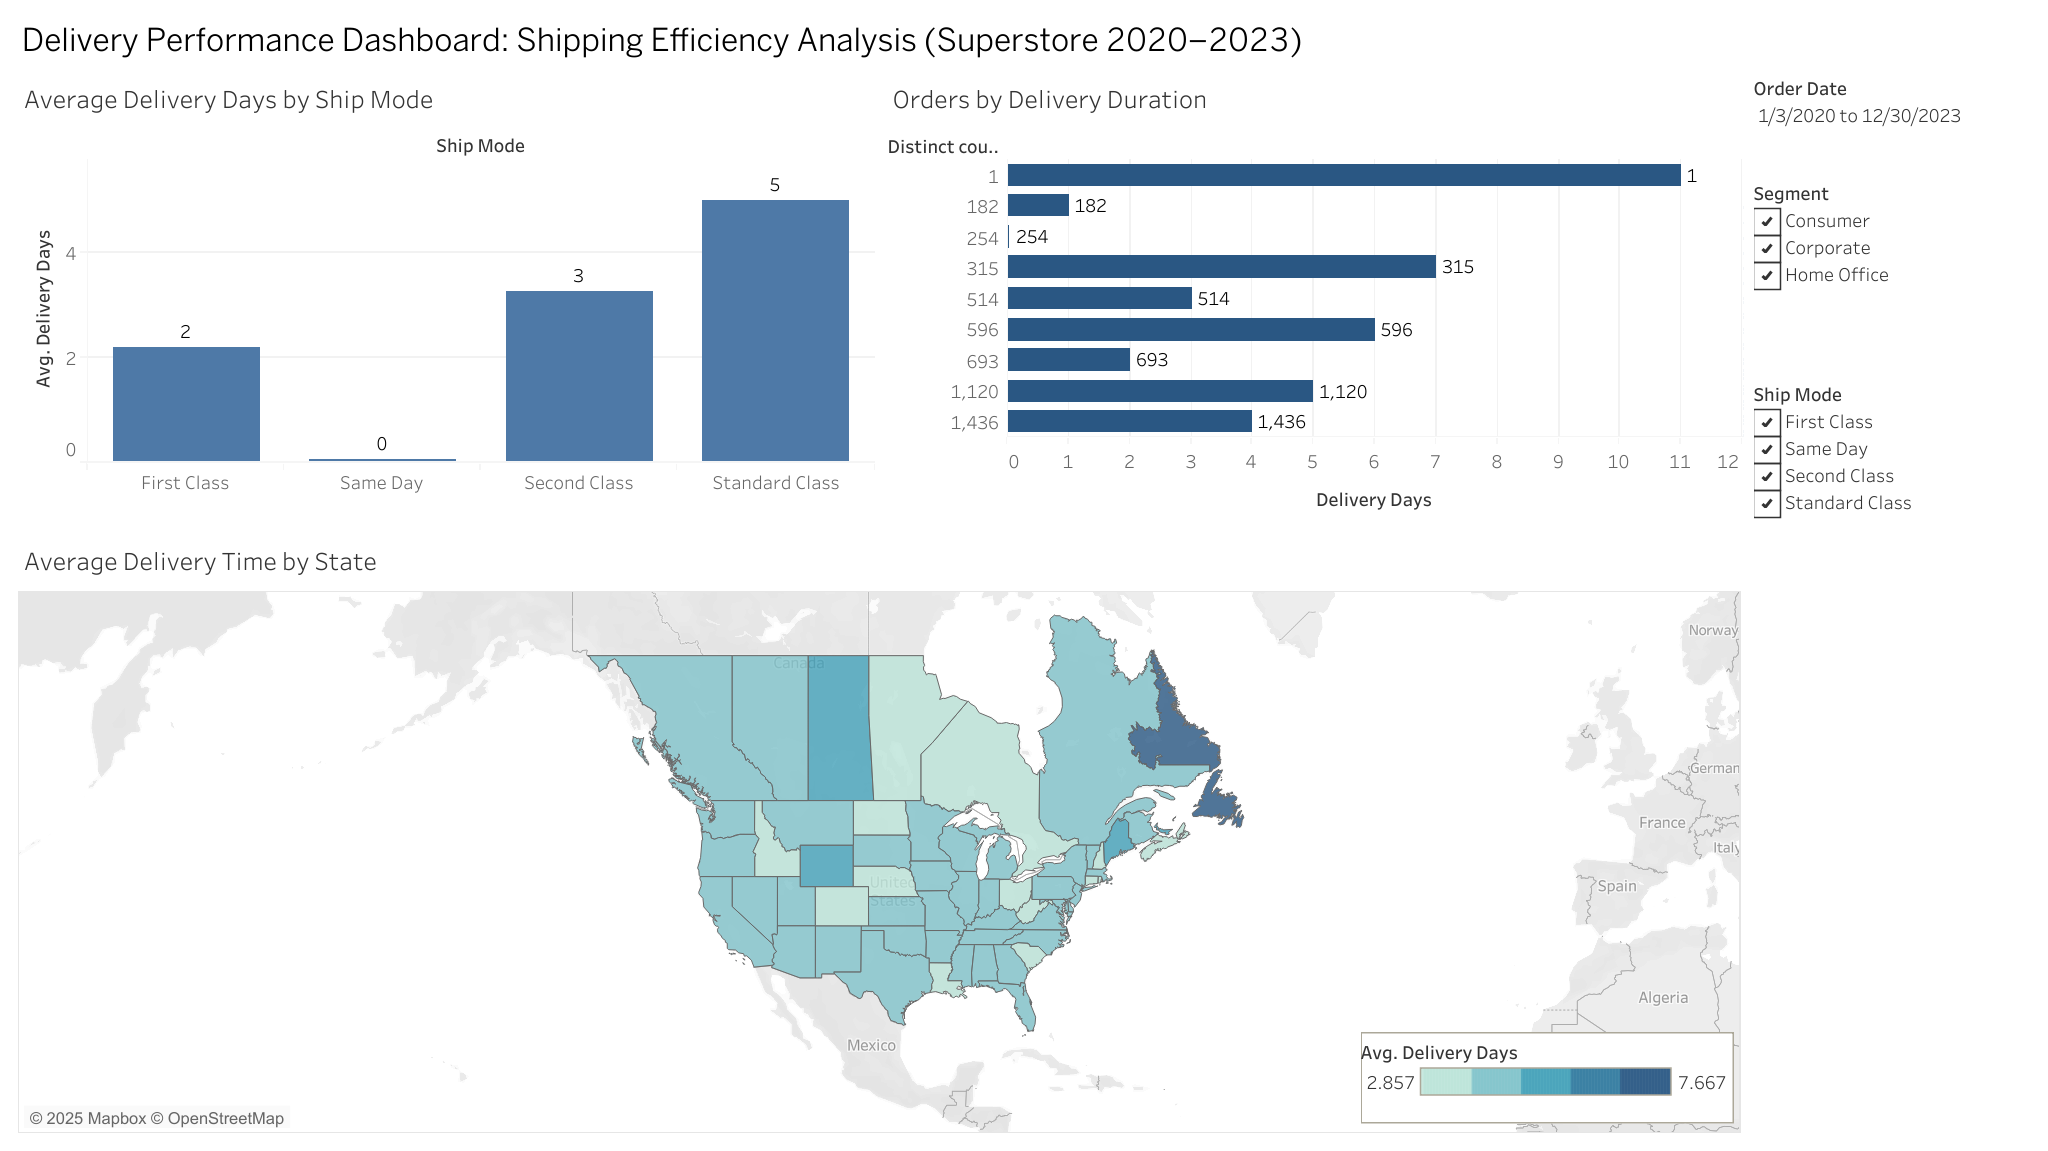

Layout of this report page (visuals, bound fields, positions):
{"tool":"tableau","page":{"name":"Delivery Analysis","canvas":[1366,768],"ordinal":0},"visuals":[{"type":"title","box":[8,8,1350,36]},{"type":"worksheet","title":"Average Delivery Days by Ship Mode","mark":"Automatic","rows":["Calculation_120189879459831809"],"cols":["Ship Mode"],"box":[8,44,579,308]},{"type":"worksheet","title":"Orders by Delivery Duration","mark":"Bar","rows":["Order ID"],"cols":["Calculation_120189879459831809"],"box":[587,44,578,308]},{"type":"filter","title":"Average Delivery Days by Ship Mode","param":"[federated.1ftyfy50ufrkzr1cc30dc0tlt5em].[none:Order Date:qk]","box":[1165,44,193,70]},{"type":"filter","title":"Average Delivery Days by Ship Mode","param":"[federated.1ftyfy50ufrkzr1cc30dc0tlt5em].[none:Segment:nk]","box":[1165,114,193,134]},{"type":"filter","title":"Average Delivery Days by Ship Mode","param":"[federated.1ftyfy50ufrkzr1cc30dc0tlt5em].[none:Ship Mode:nk]","box":[1165,248,193,154]},{"type":"worksheet","title":"Average Delivery Time by State","mark":"Automatic","box":[8,351.5,1157,408.5]},{"type":"legend","title":"Average Delivery Time by State","param":"[federated.1ftyfy50ufrkzr1cc30dc0tlt5em].[avg:Calculation_120189879459831809:qk]","box":[907,688,249,63]}]}

Visuals, with their boxes in screenshot pixels (x1, y1, x2, y2), scaled from the page's 1366x768 canvas onto the 2048x1151 screenshot:
title: pyautogui.locateOnScreen(12, 12, 2036, 66)
"Average Delivery Days by Ship Mode" worksheet: pyautogui.locateOnScreen(12, 66, 880, 528)
"Orders by Delivery Duration" worksheet (Bar marks): pyautogui.locateOnScreen(880, 66, 1747, 528)
"Average Delivery Days by Ship Mode" filter: pyautogui.locateOnScreen(1747, 66, 2036, 171)
"Average Delivery Days by Ship Mode" filter: pyautogui.locateOnScreen(1747, 171, 2036, 372)
"Average Delivery Days by Ship Mode" filter: pyautogui.locateOnScreen(1747, 372, 2036, 602)
"Average Delivery Time by State" worksheet: pyautogui.locateOnScreen(12, 527, 1747, 1139)
"Average Delivery Time by State" legend: pyautogui.locateOnScreen(1360, 1031, 1733, 1126)
